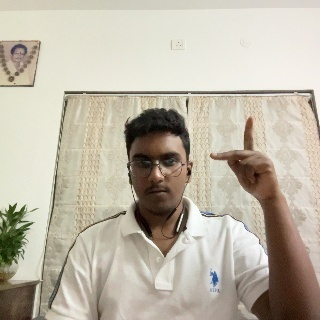Face: (124, 121, 191, 216)
Okay: (209, 116, 283, 217)
